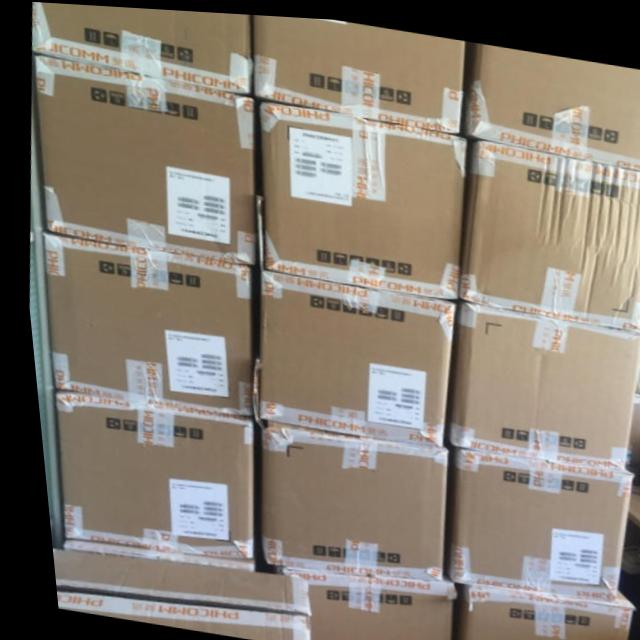box: (30, 55, 255, 264), (255, 99, 466, 295), (39, 231, 247, 415), (454, 133, 640, 326), (247, 265, 447, 444), (46, 392, 244, 557), (441, 299, 633, 463), (249, 417, 439, 576), (435, 442, 621, 593), (253, 12, 468, 129), (42, 548, 298, 640), (460, 37, 640, 163), (30, 1, 255, 97), (261, 564, 443, 640), (440, 578, 622, 640), (51, 539, 240, 569)
